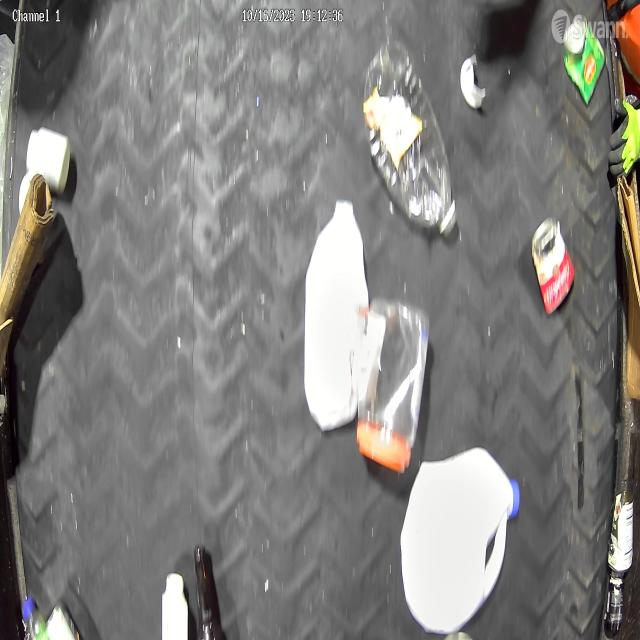can: (530, 210, 579, 314), (606, 485, 636, 573), (604, 575, 627, 638)
milk_jug: (401, 442, 525, 636), (302, 197, 370, 437)
plastic_bottle: (362, 29, 458, 239)
